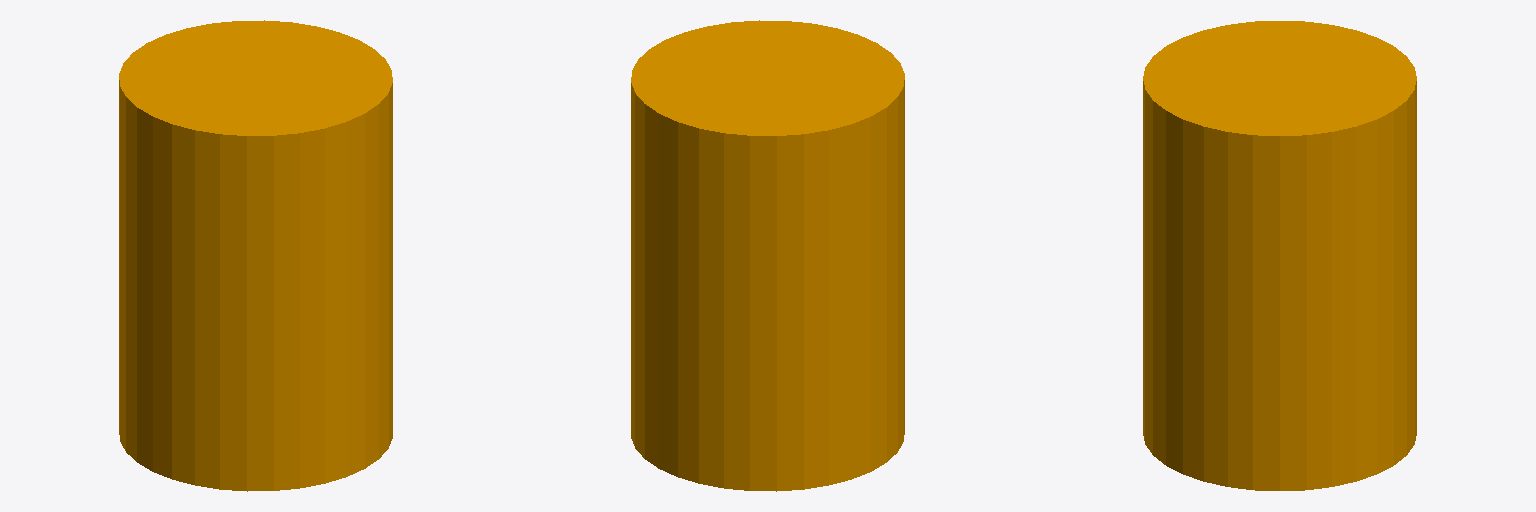
URDF robot description (simple_cylinder):
<?xml version="1.0"?>
<robot name="simple_cylinder">
  <link name="cylinder_link">
    <visual>
      <geometry>
        <cylinder radius="0.07" length="0.2"/>
      </geometry>
    </visual>

    <collision>
      <geometry>
        <cylinder radius="0.07" length="0.2"/>
      </geometry>
    </collision>

    <inertial>
      <mass value="0.05"/>
      <inertia ixx="0.0001" iyy="0.0001" izz="0.0001"/>
    </inertial>
  </link>
</robot>

--- What the picture shows (computed from the rendered views, not written in the file) ---
The picture shows the robot from 3 angles, left to right: view 1: azimuth 30°, elevation 25°; view 2: azimuth 150°, elevation 25°; view 3: azimuth 270°, elevation 25°; orthographic projection.
Model simple_cylinder with 1 links and 0 joints (none), rooted at cylinder_link, posed all joints at 0.
Visible links, largest first — view 1: cylinder_link; view 2: cylinder_link; view 3: cylinder_link.
Link boxes in pixels (left/top/right/bottom): cylinder_link: left=119, top=20, right=392, bottom=491; cylinder_link: left=631, top=20, right=904, bottom=491; cylinder_link: left=1143, top=21, right=1416, bottom=490.
Size in the robot's own frame: 0.14 by 0.14 by 0.2 metres.
Geometry: primitives only (box / cylinder / sphere), no mesh files.
